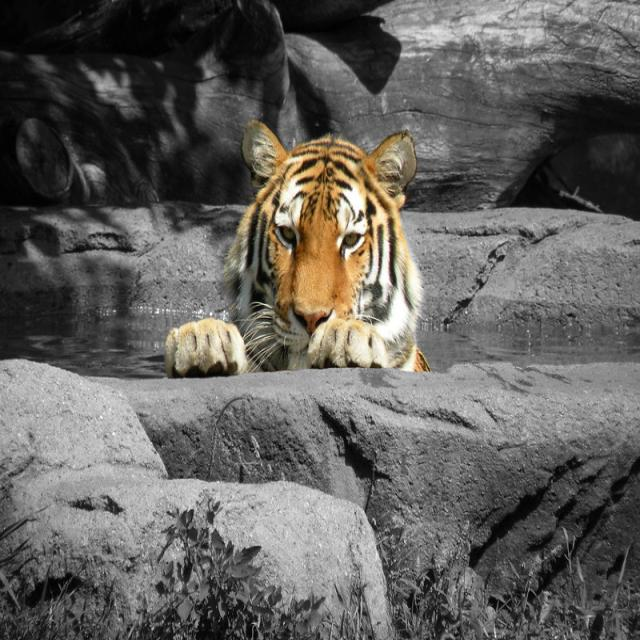Tiger: (154, 115, 438, 381)
